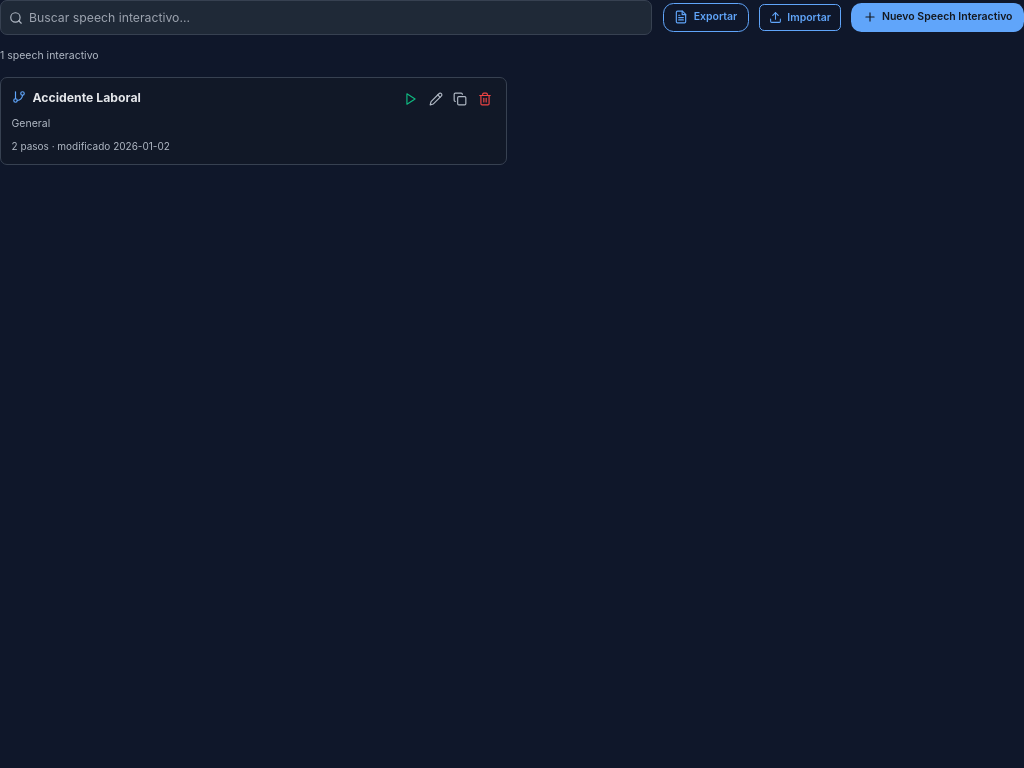
Test case: InteractivosView (lista) › elimina con confirmación
This screenshot has width=1024, height=768.
Click the button named "Eliminar speech interactivo": (485, 99) [474,88,495,110]
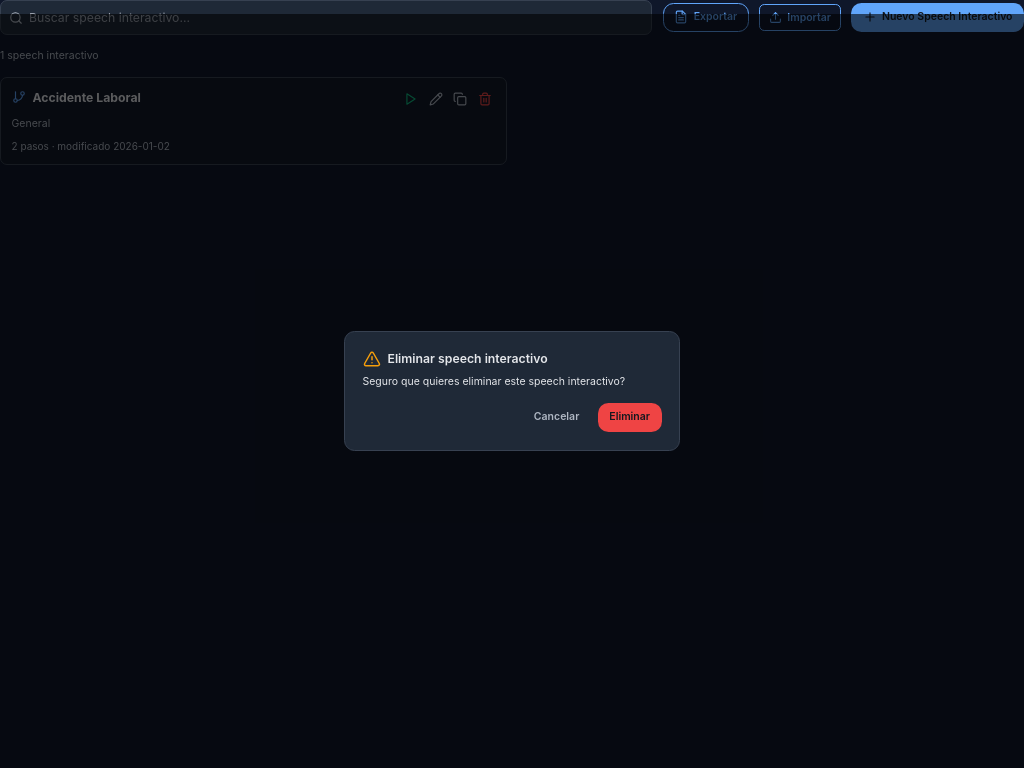
Click the button "Eliminar": (630, 417) [598,403,662,432]
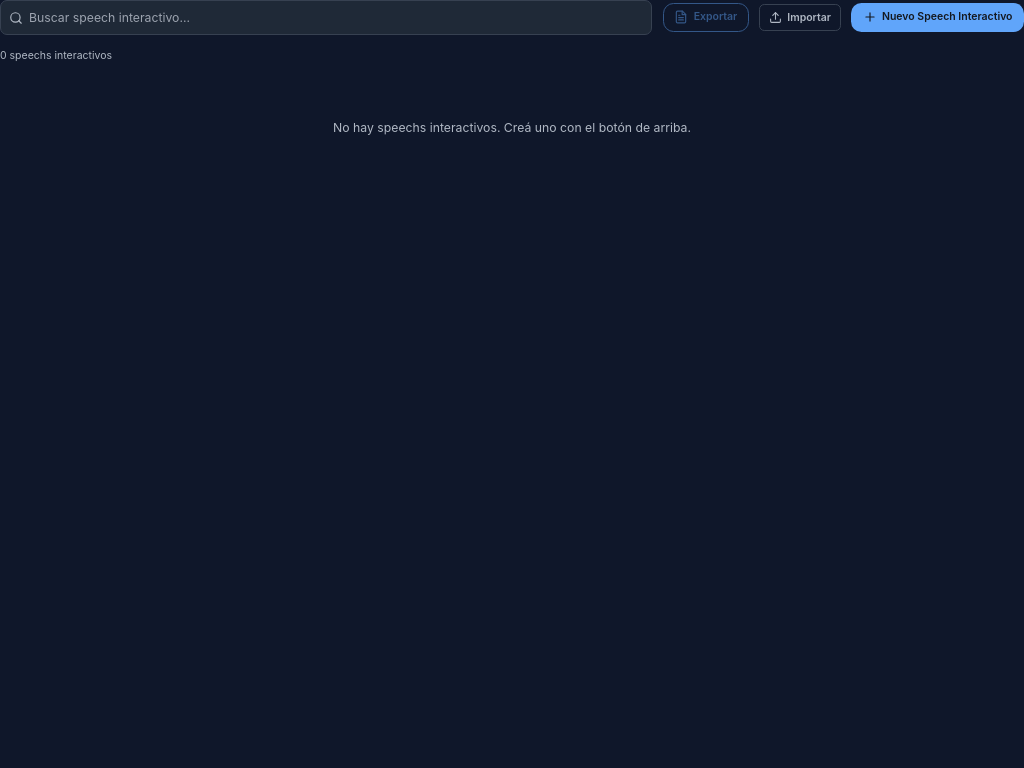
Now the text "No hay speechs interactivos. Creá uno con el botón de arriba." is shown, box [333,120,691,135]
